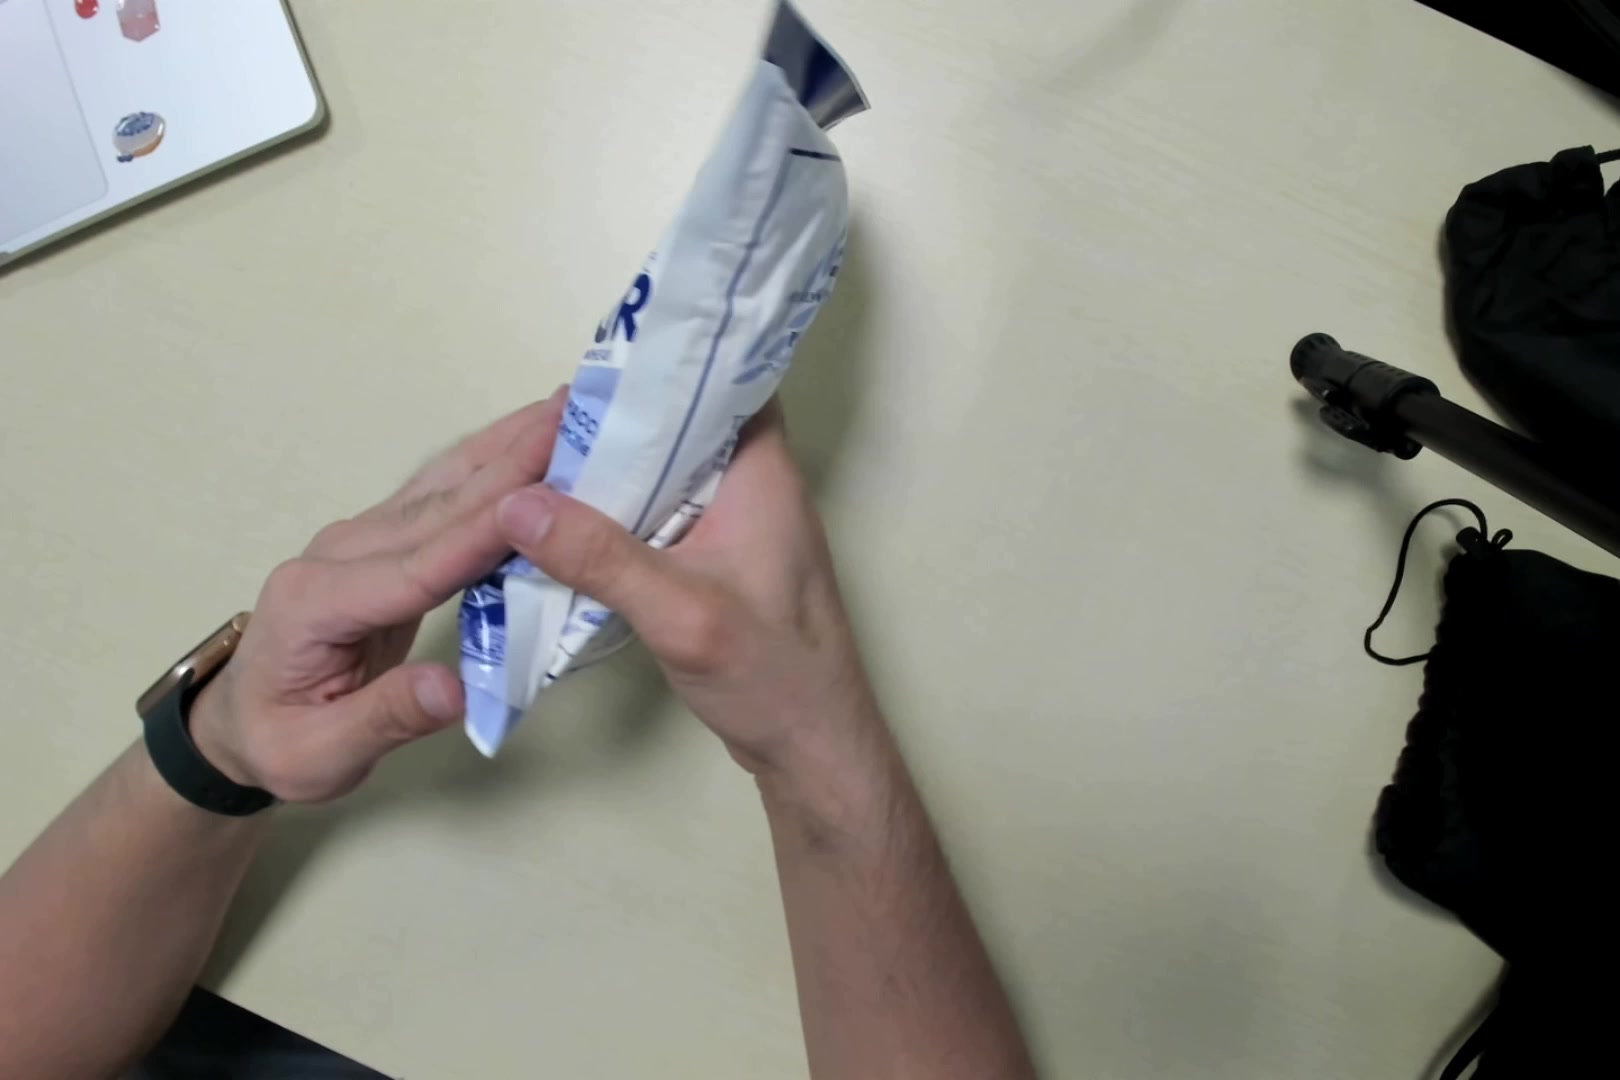Flour_500-599g_NonHalal_NonHealthy: (459, 14, 886, 779)
